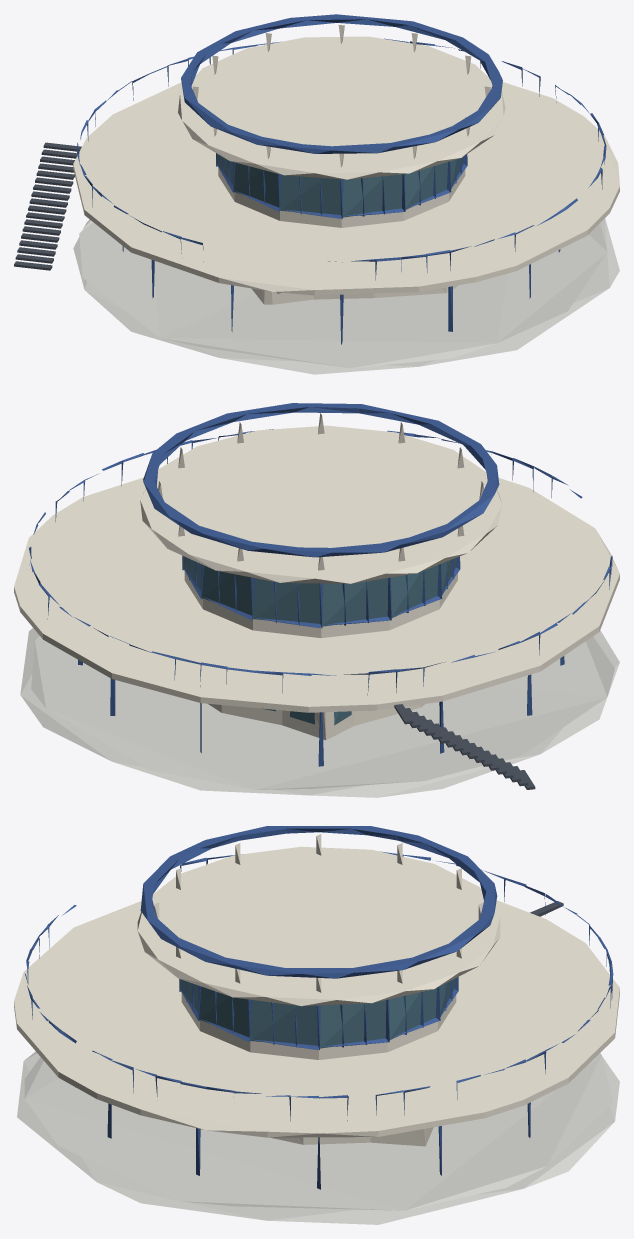
File: blauwe-theehuis.lod1.glb
3 views of the same model, one above another, from view 1: azimuth 30°, elevation 25°; view 2: azimuth 150°, elevation 25°; view 3: azimuth 270°, elevation 25° (orthographic). The views are drawn at different scales.
Parts seen in each view (by area): view 1: blauwe-theehuis; view 2: blauwe-theehuis; view 3: blauwe-theehuis.
Boxes of the visible parts, x1,y1,x2,y2 form: blauwe-theehuis: [14, 14, 619, 374]; blauwe-theehuis: [14, 403, 619, 797]; blauwe-theehuis: [14, 826, 619, 1224].
Size of the model in its own units: 21.62 by 7.3 by 20.3.
